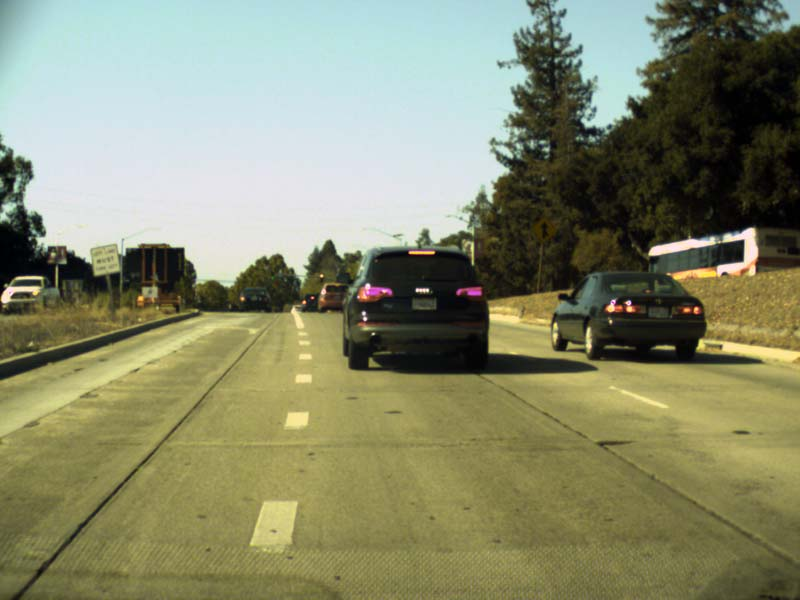Green: (270, 271, 274, 281)
Red: (319, 273, 323, 282)
